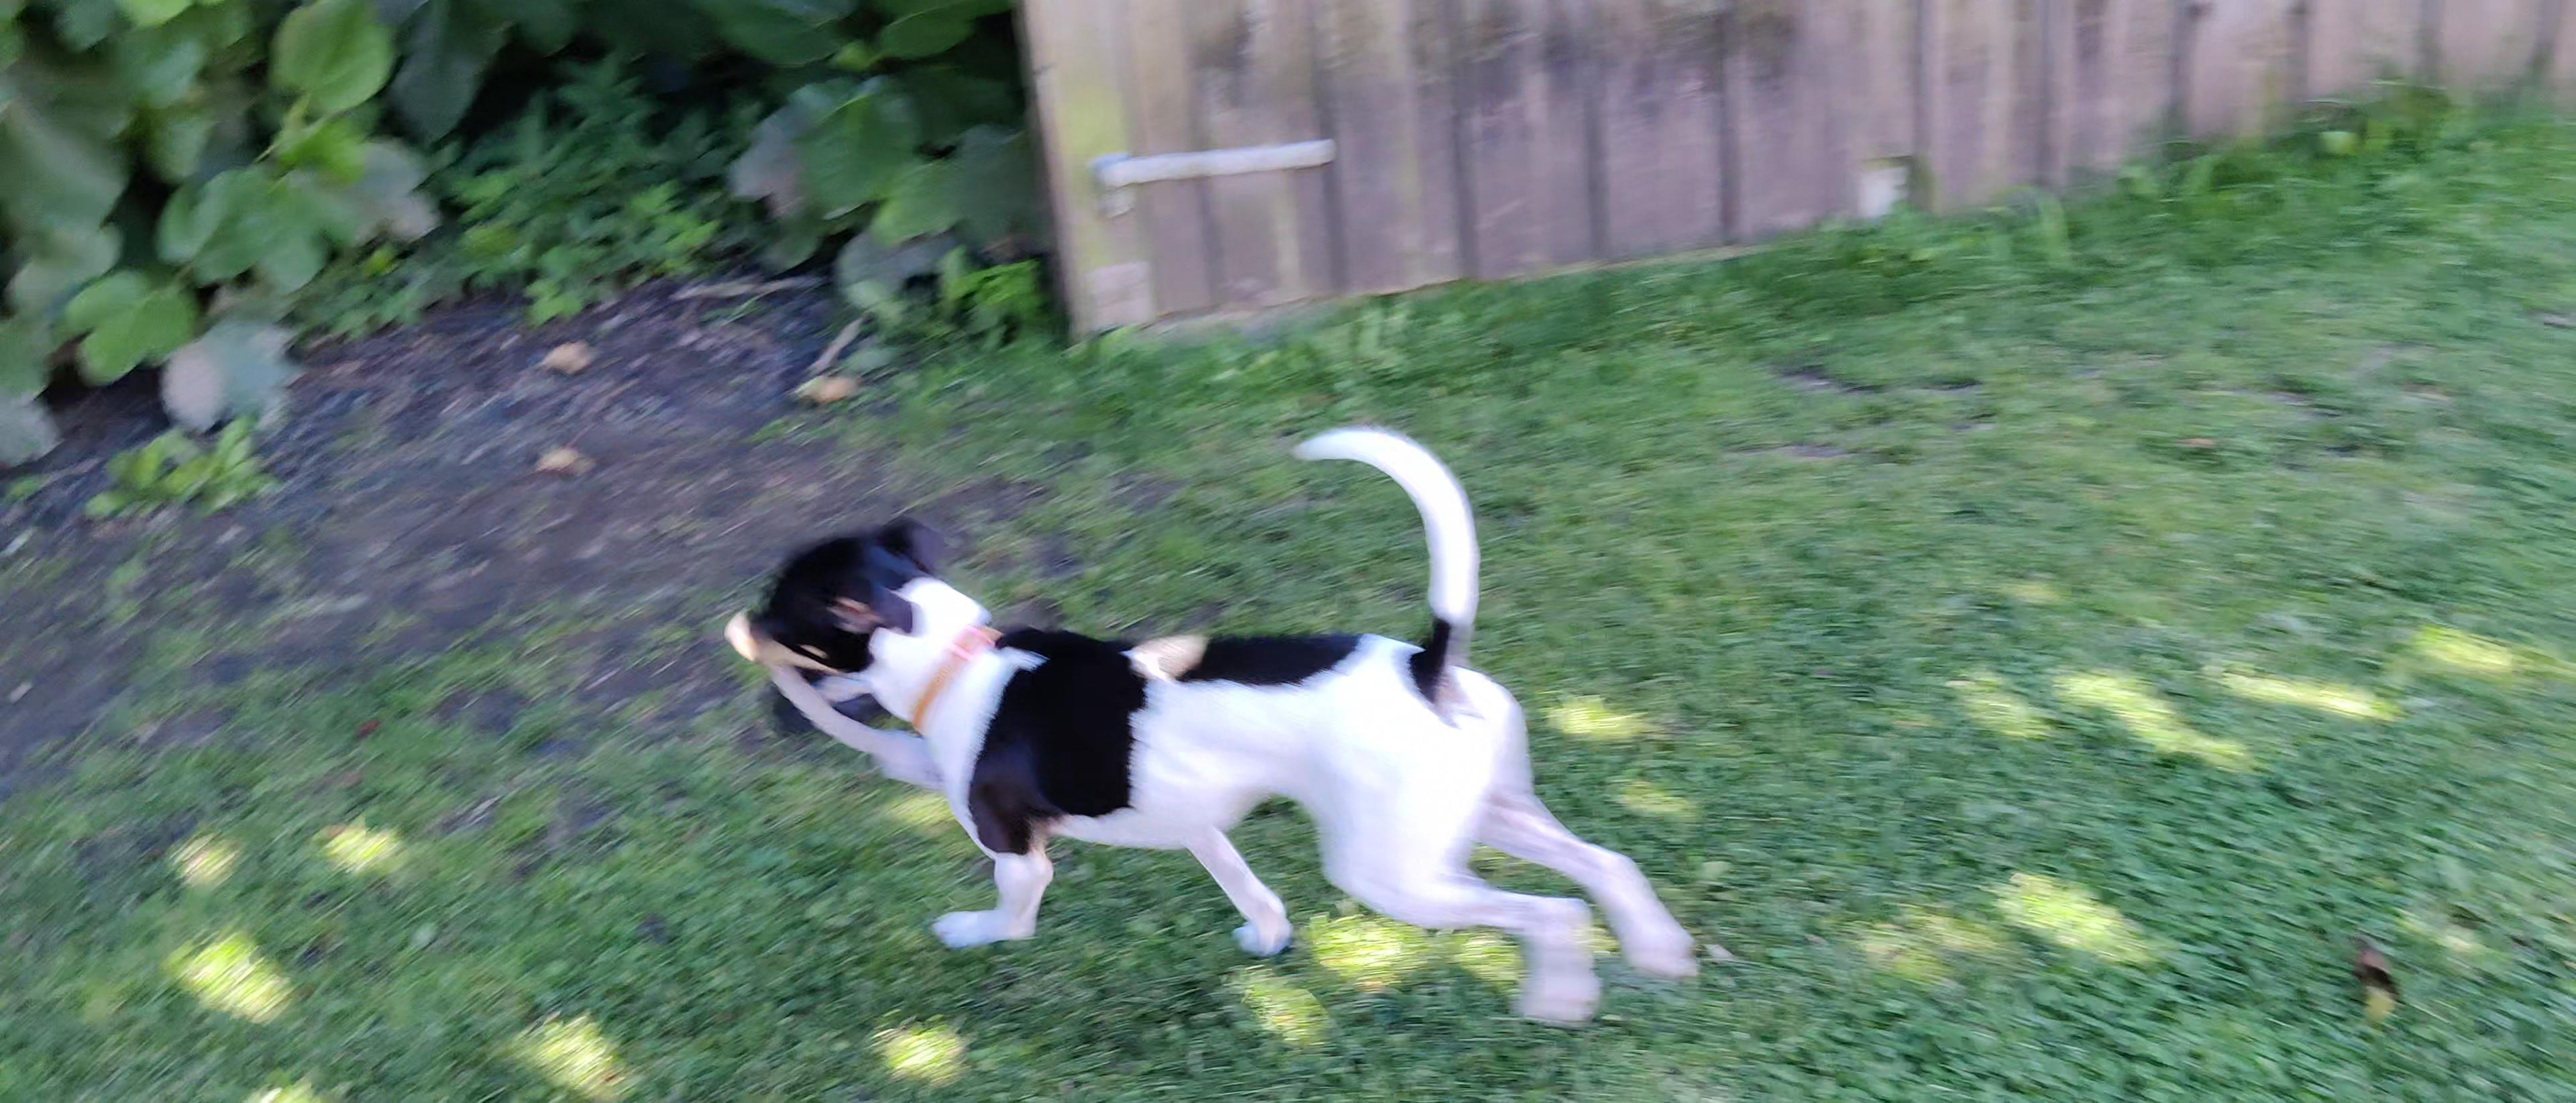Dog: (721, 406, 1702, 1041)
